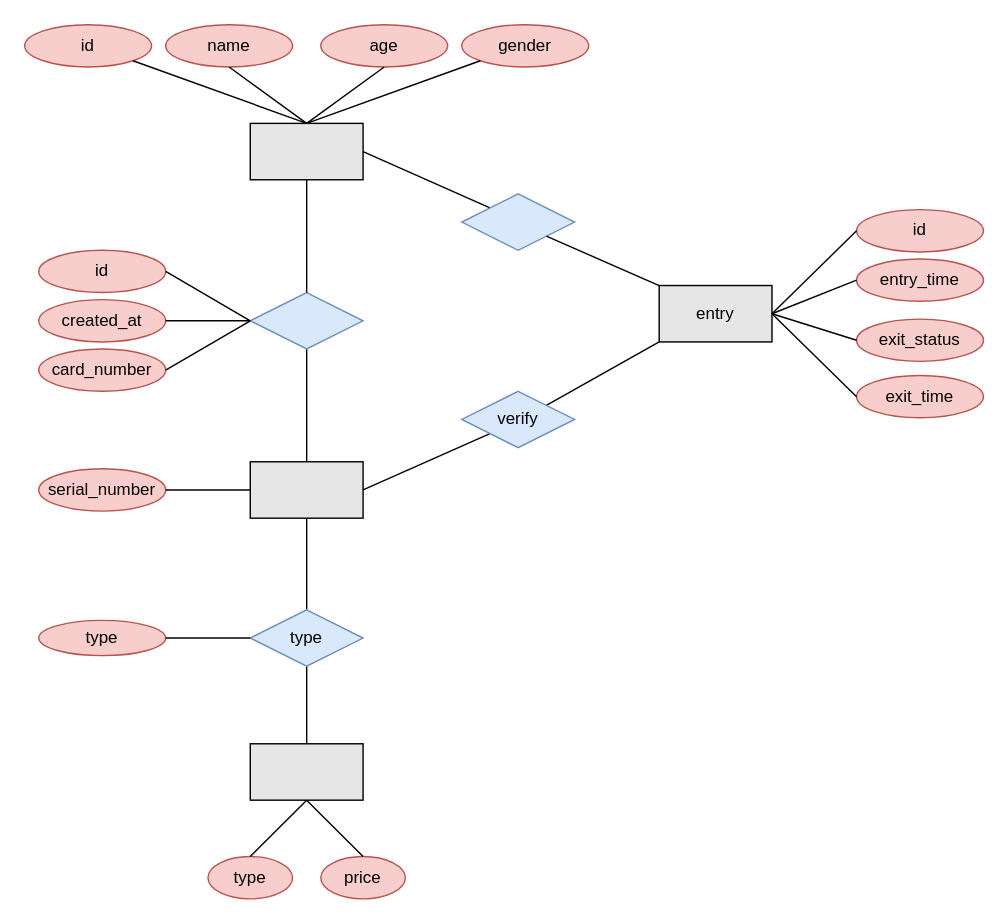
This 1008x924 diagram has some shape labels left out. The centre of each missing label's shape, as x and y in pixels:
"entrance" goes at (x=517, y=221).
"payment" goes at (x=306, y=320).
"ticket" goes at (x=306, y=489).
"ticket_type" goes at (x=306, y=771).
"visitor" goes at (x=306, y=151).
